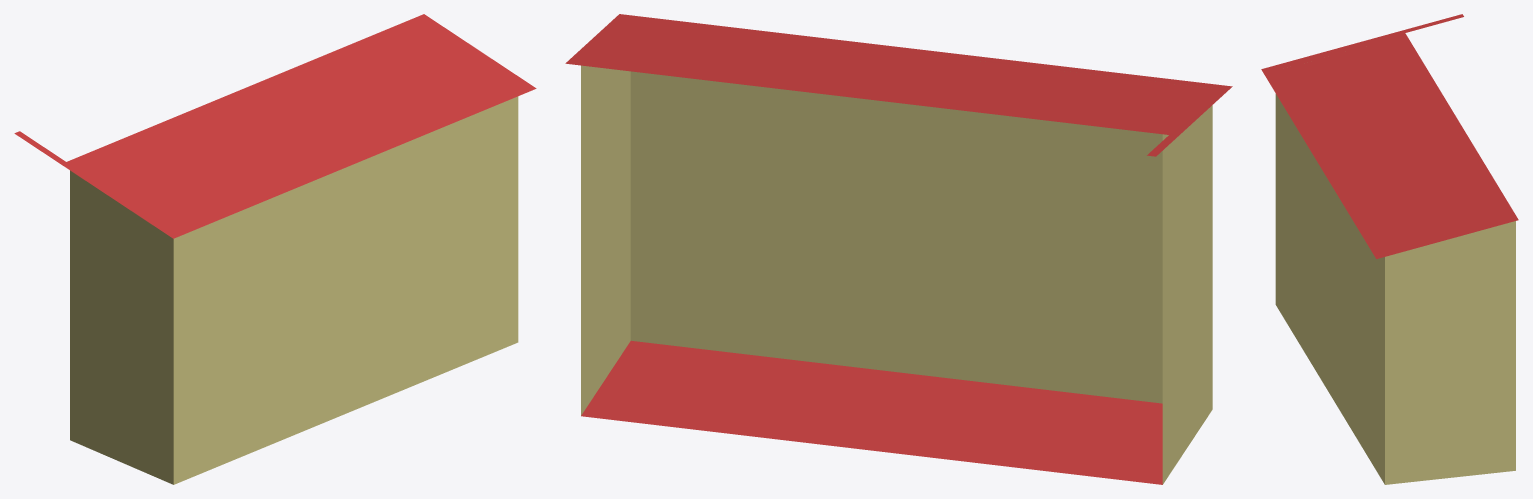
3 views of the same model, side by side, from view 1: azimuth 30°, elevation 25°; view 2: azimuth 150°, elevation 25°; view 3: azimuth 270°, elevation 25° (orthographic). The views are drawn at different scales.
Bounding box in the file's own units: 10.51 × 5.4 × 6.14.
